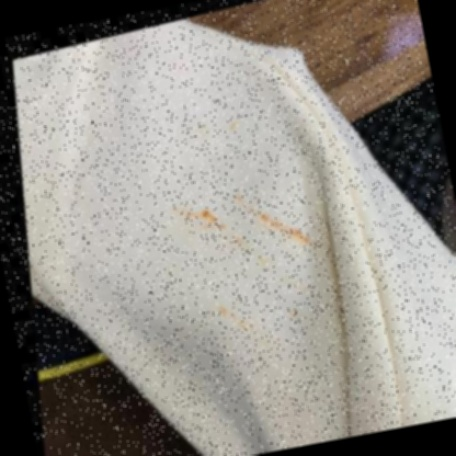kimchi: (289, 224, 322, 254), (220, 307, 247, 335), (192, 206, 221, 231), (262, 208, 288, 234), (219, 122, 236, 140)
